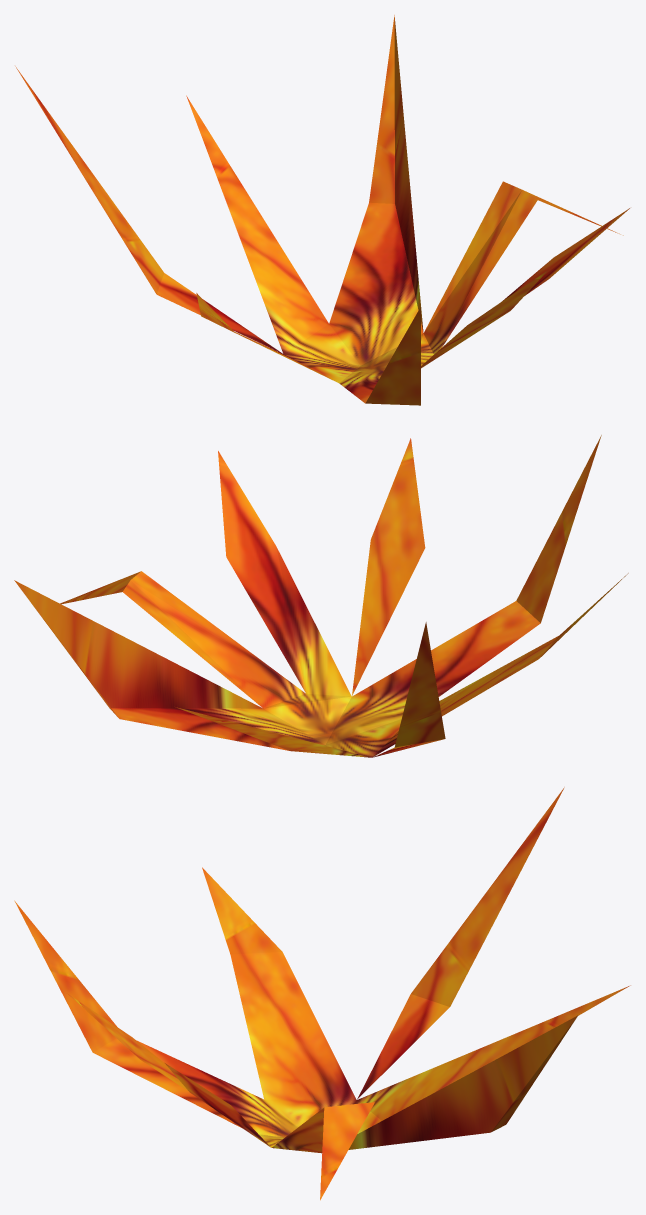
Rendered from TheOctagon_Floor_0_TFlower_2.gltf.
The picture shows the model from 3 angles, top to bottom: view 1: azimuth 30°, elevation 25°; view 2: azimuth 150°, elevation 25°; view 3: azimuth 270°, elevation 25°; orthographic projection. The views are drawn at different scales.
Visible parts, largest first — view 1: TheOctagon_Floor_0_TFlower_2; view 2: TheOctagon_Floor_0_TFlower_2; view 3: TheOctagon_Floor_0_TFlower_2.
Boxes of the visible parts, x1=… form: TheOctagon_Floor_0_TFlower_2: x1=15, y1=15, x2=629, y2=405; TheOctagon_Floor_0_TFlower_2: x1=14, y1=435, x2=628, y2=757; TheOctagon_Floor_0_TFlower_2: x1=14, y1=787, x2=630, y2=1200.
Bounding box in the file's own units: 1.99 × 1.02 × 2.26.
Materials: 1 (1 with a texture image).
